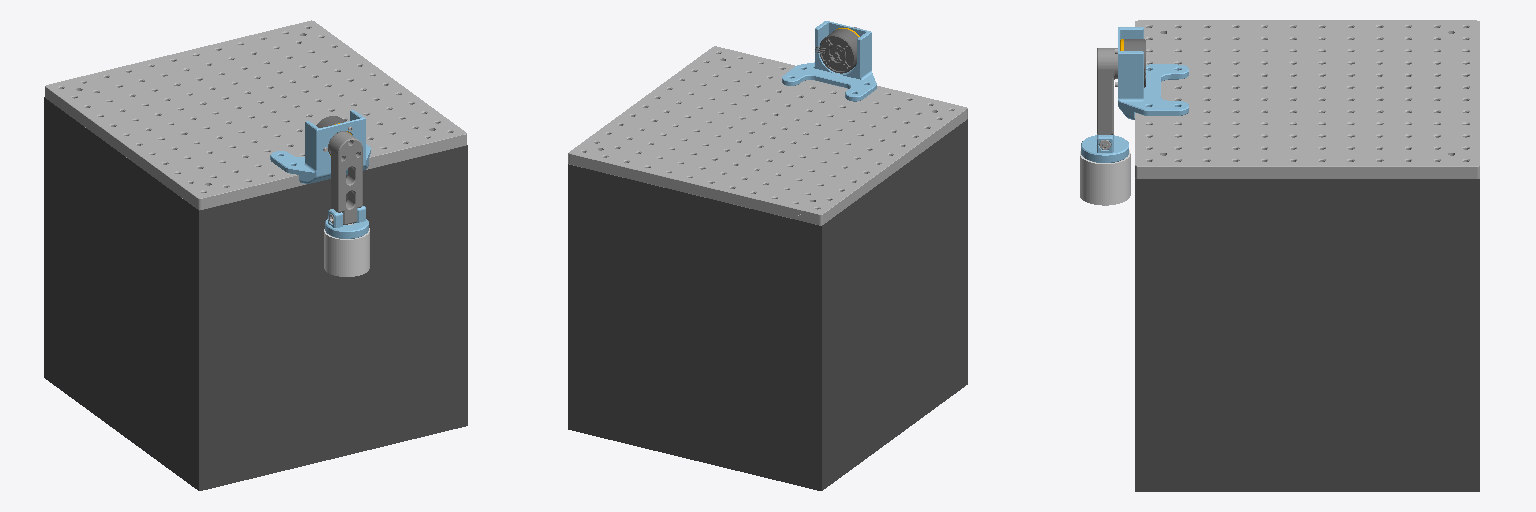
URDF robot description (motor-test):
<?xml version="1.0" ?>
<!-- Generated using onshape-to-robot -->
<!-- Onshape https://cad.onshape.com/documents/f19431feda8c6b4f06c8f502/w/9d717de2ff92d2250f6d3169/e/4b5dcd3392c2705960537d9c -->
<robot name="motor-test">
  <!-- Link optical_breadboard -->
  <link name="optical_breadboard">
    <inertial>
      <origin xyz="6.77045e-08 -0.00100928 -0.131221" rpy="0 0 0"/>
      <mass value="24.8664"/>
      <inertia ixx="0.432733" ixy="-3.50201e-07" ixz="-2.21559e-07" iyy="0.428969" iyz="0.00416714" izz="0.384438"/>
    </inertial>
    <!-- Part cover -->
    <visual>
      <origin xyz="-0.173772 -0.1427 -0.00406144" rpy="1.5708 1.3494e-79 -9.05696e-48"/>
      <geometry>
        <mesh filename="package://assets/cover.stl"/>
      </geometry>
      <material name="cover_material">
        <color rgba="0.980392 0.713725 0.00392157 1.0"/>
      </material>
    </visual>
    <!-- <collision>
      <origin xyz="-0.173772 -0.1427 -0.00406144" rpy="1.5708 1.3494e-79 -9.05696e-48"/>
      <geometry>
        <mesh filename="package://assets/cover.stl"/>
      </geometry>
    </collision> -->
    <!-- Part m2_5_x_14mm -->
    <visual>
      <origin xyz="0.00926876 -0.1537 0.0577698" rpy="-3.14159 -3.57124e-48 3.05958e-64"/>
      <geometry>
        <mesh filename="package://assets/m2_5_x_14mm.stl"/>
      </geometry>
      <material name="m2_5_x_14mm_material">
        <color rgba="0.752941 0.752941 0.752941 1.0"/>
      </material>
    </visual>
    <!-- <collision>
      <origin xyz="0.00926876 -0.1537 0.0577698" rpy="-3.14159 -3.57124e-48 3.05958e-64"/>
      <geometry>
        <mesh filename="package://assets/m2_5_x_14mm.stl"/>
      </geometry>
    </collision> -->
    <!-- Part table -->
    <visual>
      <origin xyz="-0.152 -0.152 0" rpy="0 -0 0"/>
      <geometry>
        <mesh filename="package://assets/table.stl"/>
      </geometry>
      <material name="table_material">
        <color rgba="0.4 0.4 0.4 1.0"/>
      </material>
    </visual>
    <!-- <collision>
      <origin xyz="-0.152 -0.152 0" rpy="0 -0 0"/>
      <geometry>
        <mesh filename="package://assets/table.stl"/>
      </geometry>
    </collision> -->
    <!-- Part motor_mount -->
    <visual>
      <origin xyz="0 -0.1677 0.0418076" rpy="-1.07833e-158 5.39761e-79 5.32744e-80"/>
      <geometry>
        <mesh filename="package://assets/motor_mount.stl"/>
      </geometry>
      <material name="motor_mount_material">
        <color rgba="0.615686 0.811765 0.929412 1.0"/>
      </material>
    </visual>
    <!-- <collision>
      <origin xyz="0 -0.1677 0.0418076" rpy="-1.07833e-158 5.39761e-79 5.32744e-80"/>
      <geometry>
        <mesh filename="package://assets/motor_mount.stl"/>
      </geometry>
    </collision> -->
    <!-- Part gim3505 -->
    <visual>
      <origin xyz="-0.173772 -0.1427 -0.00406144" rpy="1.5708 1.56416e-48 4.07889e-32"/>
      <geometry>
        <mesh filename="package://assets/gim3505.stl"/>
      </geometry>
      <material name="gim3505_material">
        <color rgba="0.498039 0.498039 0.498039 1.0"/>
      </material>
    </visual>
    <!-- <collision>
      <origin xyz="-0.173772 -0.1427 -0.00406144" rpy="1.5708 1.56416e-48 4.07889e-32"/>
      <geometry>
        <mesh filename="package://assets/gim3505.stl"/>
      </geometry>
    </collision> -->
    <!-- Part optical_breadboard -->
    <visual>
      <origin xyz="0 -1.38778e-17 0.0127" rpy="-1.5708 -0 0"/>
      <geometry>
        <mesh filename="package://assets/optical_breadboard.stl"/>
      </geometry>
      <material name="optical_breadboard_material">
        <color rgba="0.752941 0.752941 0.752941 1.0"/>
      </material>
    </visual>
    <!-- <collision>
      <origin xyz="0 -1.38778e-17 0.0127" rpy="-1.5708 -0 0"/>
      <geometry>
        <mesh filename="package://assets/optical_breadboard.stl"/>
      </geometry>
    </collision> -->
    <!-- Part m2_5_x_14mm_2 -->
    <visual>
      <origin xyz="-0.0184812 -0.1537 0.0417483" rpy="3.14159 -1.78562e-48 1.52979e-64"/>
      <geometry>
        <mesh filename="package://assets/m2_5_x_14mm.stl"/>
      </geometry>
      <material name="m2_5_x_14mm_2_material">
        <color rgba="0.752941 0.752941 0.752941 1.0"/>
      </material>
    </visual>
    <!-- <collision>
      <origin xyz="-0.0184812 -0.1537 0.0417483" rpy="3.14159 -1.78562e-48 1.52979e-64"/>
      <geometry>
        <mesh filename="package://assets/m2_5_x_14mm.stl"/>
      </geometry>
    </collision> -->
    <!-- Part m2_5_x_14mm_3 -->
    <visual>
      <origin xyz="0.00925 -0.1537 0.0257861" rpy="-3.14159 -3.57124e-48 3.05958e-64"/>
      <geometry>
        <mesh filename="package://assets/m2_5_x_14mm.stl"/>
      </geometry>
      <material name="m2_5_x_14mm_3_material">
        <color rgba="0.752941 0.752941 0.752941 1.0"/>
      </material>
    </visual>
    <!-- <collision>
      <origin xyz="0.00925 -0.1537 0.0257861" rpy="-3.14159 -3.57124e-48 3.05958e-64"/>
      <geometry>
        <mesh filename="package://assets/m2_5_x_14mm.stl"/>
      </geometry>
    </collision> -->
  </link>
  <!-- Link arm -->
  <link name="arm">
    <inertial>
      <origin xyz="2.75814e-05 0.100113 -0.0124116" rpy="0 0 0"/>
      <mass value="0.576848"/>
      <inertia ixx="0.000441195" ixy="4.61494e-07" ixz="1.22203e-09" iyy="0.00013718" iyz="5.10508e-06" izz="0.000444975"/>
    </inertial>
    <!-- Part m2_5_x_14mm_4 -->
    <visual>
      <origin xyz="-0.0086415 0.00505928 0.0035" rpy="-1.5708 -3.70455e-32 5.55112e-17"/>
      <geometry>
        <mesh filename="package://assets/m2_5_x_14mm.stl"/>
      </geometry>
      <material name="m2_5_x_14mm_4_material">
        <color rgba="0.752941 0.752941 0.752941 1.0"/>
      </material>
    </visual>
    <!-- <collision>
      <origin xyz="-0.0086415 0.00505928 0.0035" rpy="-1.5708 -3.70455e-32 5.55112e-17"/>
      <geometry>
        <mesh filename="package://assets/m2_5_x_14mm.stl"/>
      </geometry>
    </collision> -->
    <!-- Part m6_lock_nut -->
    <visual>
      <origin xyz="0.015 0.0712 -0.0125" rpy="1.5708 -1.03805e-16 1.5708"/>
      <geometry>
        <mesh filename="package://assets/m6_lock_nut.stl"/>
      </geometry>
      <material name="m6_lock_nut_material">
        <color rgba="0.752941 0.752941 0.752941 1.0"/>
      </material>
    </visual>
    <!-- <collision>
      <origin xyz="0.015 0.0712 -0.0125" rpy="1.5708 -1.03805e-16 1.5708"/>
      <geometry>
        <mesh filename="package://assets/m6_lock_nut.stl"/>
      </geometry>
    </collision> -->
    <!-- Part m2_5_x_14mm_5 -->
    <visual>
      <origin xyz="8.13152e-19 -0.01 0.0035" rpy="-1.5708 -3.70455e-32 5.55112e-17"/>
      <geometry>
        <mesh filename="package://assets/m2_5_x_14mm.stl"/>
      </geometry>
      <material name="m2_5_x_14mm_5_material">
        <color rgba="0.752941 0.752941 0.752941 1.0"/>
      </material>
    </visual>
    <!-- <collision>
      <origin xyz="8.13152e-19 -0.01 0.0035" rpy="-1.5708 -3.70455e-32 5.55112e-17"/>
      <geometry>
        <mesh filename="package://assets/m2_5_x_14mm.stl"/>
      </geometry>
    </collision> -->
    <!-- Part m2_5_x_14mm_6 -->
    <visual>
      <origin xyz="0.00867901 0.00505928 0.0035" rpy="-1.5708 -3.70455e-32 5.55112e-17"/>
      <geometry>
        <mesh filename="package://assets/m2_5_x_14mm.stl"/>
      </geometry>
      <material name="m2_5_x_14mm_6_material">
        <color rgba="0.752941 0.752941 0.752941 1.0"/>
      </material>
    </visual>
    <!-- <collision>
      <origin xyz="0.00867901 0.00505928 0.0035" rpy="-1.5708 -3.70455e-32 5.55112e-17"/>
      <geometry>
        <mesh filename="package://assets/m2_5_x_14mm.stl"/>
      </geometry>
    </collision> -->
    <!-- Part m6_x_30mm -->
    <visual>
      <origin xyz="0.018 0.0712 -0.0125" rpy="-1.5708 1.5708 0"/>
      <geometry>
        <mesh filename="package://assets/m6_x_30mm.stl"/>
      </geometry>
      <material name="m6_x_30mm_material">
        <color rgba="0.752941 0.752941 0.752941 1.0"/>
      </material>
    </visual>
    <!-- <collision>
      <origin xyz="0.018 0.0712 -0.0125" rpy="-1.5708 1.5708 0"/>
      <geometry>
        <mesh filename="package://assets/m6_x_30mm.stl"/>
      </geometry>
    </collision> -->
    <!-- Part arm -->
    <visual>
      <origin xyz="8.13152e-19 0.0877 -0.0125" rpy="1.5708 1.0842e-16 1.2784e-48"/>
      <geometry>
        <mesh filename="package://assets/arm.stl"/>
      </geometry>
      <material name="arm_material">
        <color rgba="0.647059 0.647059 0.647059 1.0"/>
      </material>
    </visual>
    <!-- <collision>
      <origin xyz="8.13152e-19 0.0877 -0.0125" rpy="1.5708 1.0842e-16 1.2784e-48"/>
      <geometry>
        <mesh filename="package://assets/arm.stl"/>
      </geometry>
    </collision> -->
    <!-- Part m8_x_10 -->
    <visual>
      <origin xyz="8.13152e-19 0.0887 -0.0125" rpy="1.8016e-16 1.21133e-16 1.11022e-16"/>
      <geometry>
        <mesh filename="package://assets/m8_x_10.stl"/>
      </geometry>
      <material name="m8_x_10_material">
        <color rgba="0.752941 0.752941 0.752941 1.0"/>
      </material>
    </visual>
    <!-- <collision>
      <origin xyz="8.13152e-19 0.0887 -0.0125" rpy="1.8016e-16 1.21133e-16 1.11022e-16"/>
      <geometry>
        <mesh filename="package://assets/m8_x_10.stl"/>
      </geometry>
    </collision> -->
    <!-- Part part_1 -->
    <visual>
      <origin xyz="8.13152e-19 0.1279 -0.0125" rpy="1.5708 1.21133e-16 1.11022e-16"/>
      <geometry>
        <mesh filename="package://assets/part_1.stl"/>
      </geometry>
      <material name="part_1_material">
        <color rgba="0.901961 0.901961 0.901961 1.0"/>
      </material>
    </visual>
    <!-- <collision>
      <origin xyz="8.13152e-19 0.1279 -0.0125" rpy="1.5708 1.21133e-16 1.11022e-16"/>
      <geometry>
        <mesh filename="package://assets/part_1.stl"/>
      </geometry>
    </collision> -->
    <!-- Part weight_holder -->
    <visual>
      <origin xyz="8.13152e-19 0.0877 -0.0125" rpy="1.5708 1.21133e-16 5.55112e-17"/>
      <geometry>
        <mesh filename="package://assets/weight_holder.stl"/>
      </geometry>
      <material name="weight_holder_material">
        <color rgba="0.615686 0.811765 0.929412 1.0"/>
      </material>
    </visual>
    <!-- <collision>
      <origin xyz="8.13152e-19 0.0877 -0.0125" rpy="1.5708 1.21133e-16 5.55112e-17"/>
      <geometry>
        <mesh filename="package://assets/weight_holder.stl"/>
      </geometry>
    </collision> -->
  </link>
  <!-- Joint from optical_breadboard to arm -->
  <joint name="motor" type="revolute">
    <origin xyz="-8.13152e-19 -0.1662 0.0418076" rpy="-1.5708 1.74353e-32 9.86076e-32"/>
    <parent link="optical_breadboard"/>
    <child link="arm"/>
    <axis xyz="0 0 1"/>
    <limit effort="10" velocity="10" lower="-3.141592653589793" upper="3.141592653589793"/>
  </joint>
</robot>

--- Facts derived from the render (not from the file) ---
Views: 3 orthographic renders of the robot side by side, from view 1: azimuth 30°, elevation 25°; view 2: azimuth 150°, elevation 25°; view 3: azimuth 270°, elevation 25°.
Robot: motor-test — 2 links, 1 joints (1 revolute); root link optical_breadboard; default pose: every joint at zero.
Links seen in each view (by area): view 1: optical_breadboard, arm; view 2: optical_breadboard; view 3: optical_breadboard, arm.
Link boxes in pixels (x1,y1,x2,y2): optical_breadboard: (44, 20, 467, 490); arm: (324, 132, 369, 276); optical_breadboard: (568, 21, 967, 490); optical_breadboard: (1115, 20, 1479, 491); arm: (1080, 48, 1130, 205).
Bounding box of the posed robot: 0.3048 × 0.3536 × 0.3688 m (x, y, z).
Meshes: 12 distinct files referenced, 17 mesh visuals loaded (12 binary STL).
